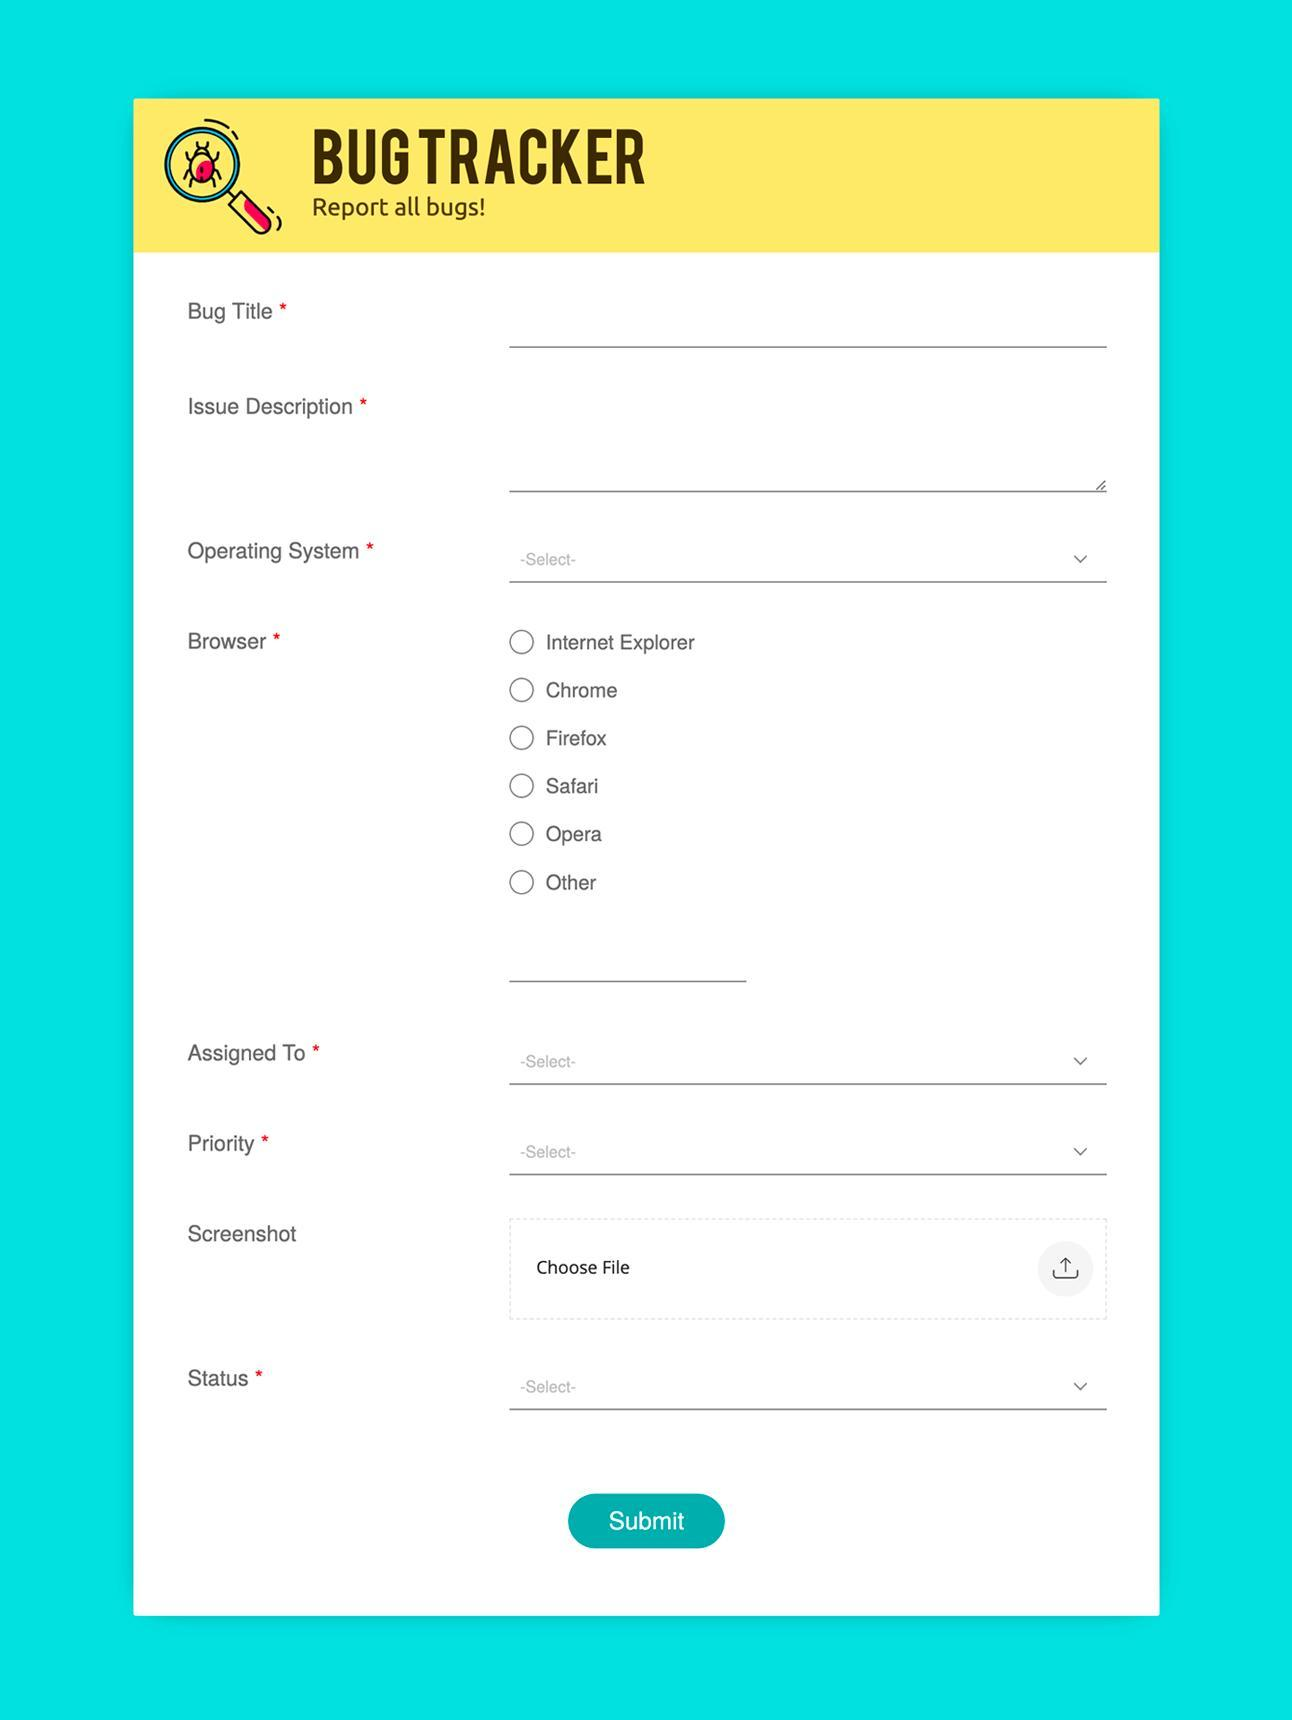button: (570, 1496, 723, 1550)
icon: (1035, 1240, 1095, 1299), (1069, 1144, 1094, 1164), (1072, 1380, 1092, 1403), (1071, 552, 1092, 572), (1069, 1055, 1092, 1074)
radio: (508, 722, 536, 756), (508, 627, 536, 657), (510, 773, 537, 803), (510, 868, 535, 899), (510, 677, 536, 704), (510, 819, 535, 848)
